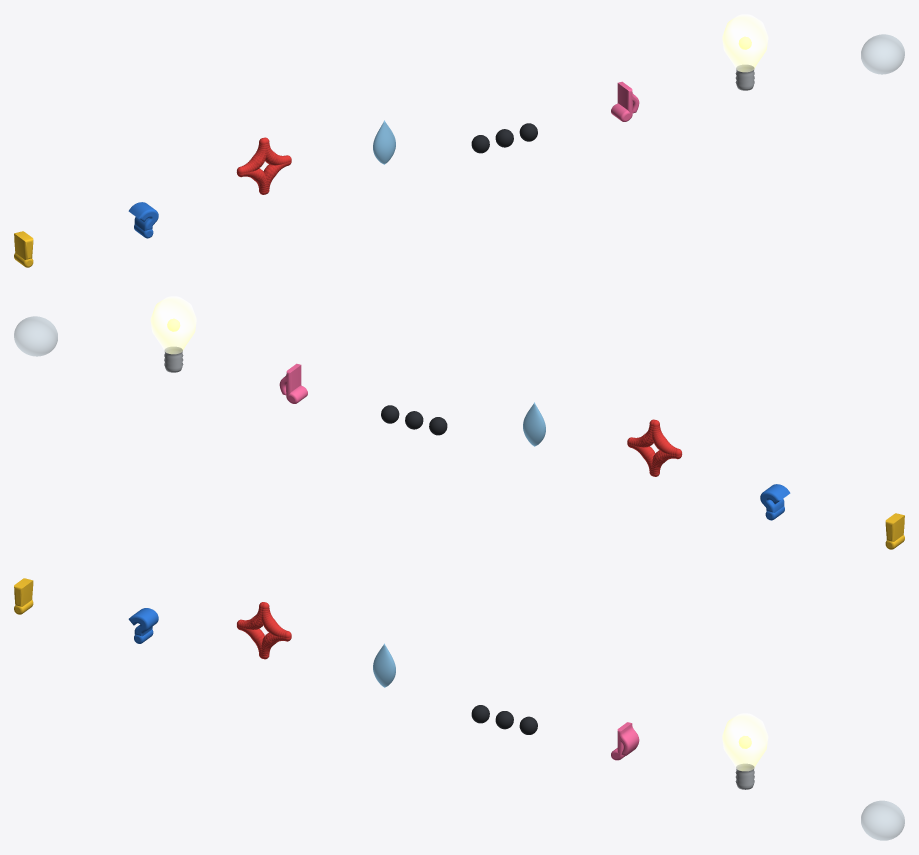
Rendered from lecture_fx.glb.
The picture shows the model from 3 angles, top to bottom: view 1: azimuth 30°, elevation 25°; view 2: azimuth 150°, elevation 25°; view 3: azimuth 330°, elevation 25°; orthographic projection.
Parts seen in each view (by area): view 1: FX_Bulb, FX_NoseBubble, FX_Anger, FX_Dots, FX_Note, FX_Question, FX_Sweat, FX_Exclaim; view 2: FX_Bulb, FX_NoseBubble, FX_Anger, FX_Dots, FX_Note, FX_Question, FX_Sweat, FX_Exclaim; view 3: FX_Bulb, FX_NoseBubble, FX_Anger, FX_Dots, FX_Question, FX_Sweat, FX_Note, FX_Exclaim.
Part boxes in pixels (left/top/right/bottom): FX_Bulb: left=722, top=14, right=768, bottom=90; FX_NoseBubble: left=861, top=34, right=904, bottom=74; FX_Anger: left=236, top=137, right=291, bottom=194; FX_Dots: left=471, top=123, right=537, bottom=153; FX_Note: left=611, top=81, right=639, bottom=121; FX_Question: left=128, top=202, right=158, bottom=238; FX_Sweat: left=373, top=120, right=395, bottom=164; FX_Exclaim: left=14, top=231, right=33, bottom=267; FX_Bulb: left=150, top=296, right=196, bottom=372; FX_NoseBubble: left=14, top=316, right=57, bottom=356; FX_Anger: left=627, top=419, right=682, bottom=476; FX_Dots: left=381, top=405, right=447, bottom=435; FX_Note: left=279, top=363, right=307, bottom=403; FX_Question: left=760, top=484, right=790, bottom=520; FX_Sweat: left=523, top=402, right=545, bottom=446; FX_Exclaim: left=885, top=513, right=904, bottom=549; FX_Bulb: left=722, top=713, right=768, bottom=789; FX_NoseBubble: left=861, top=800, right=904, bottom=840; FX_Anger: left=237, top=602, right=291, bottom=659; FX_Dots: left=471, top=705, right=537, bottom=734; FX_Question: left=128, top=608, right=158, bottom=643; FX_Sweat: left=373, top=643, right=395, bottom=687; FX_Note: left=611, top=722, right=639, bottom=760; FX_Exclaim: left=14, top=578, right=33, bottom=614.
Bounding box in the file's own units: 3.31 × 0.3194 × 0.15.
